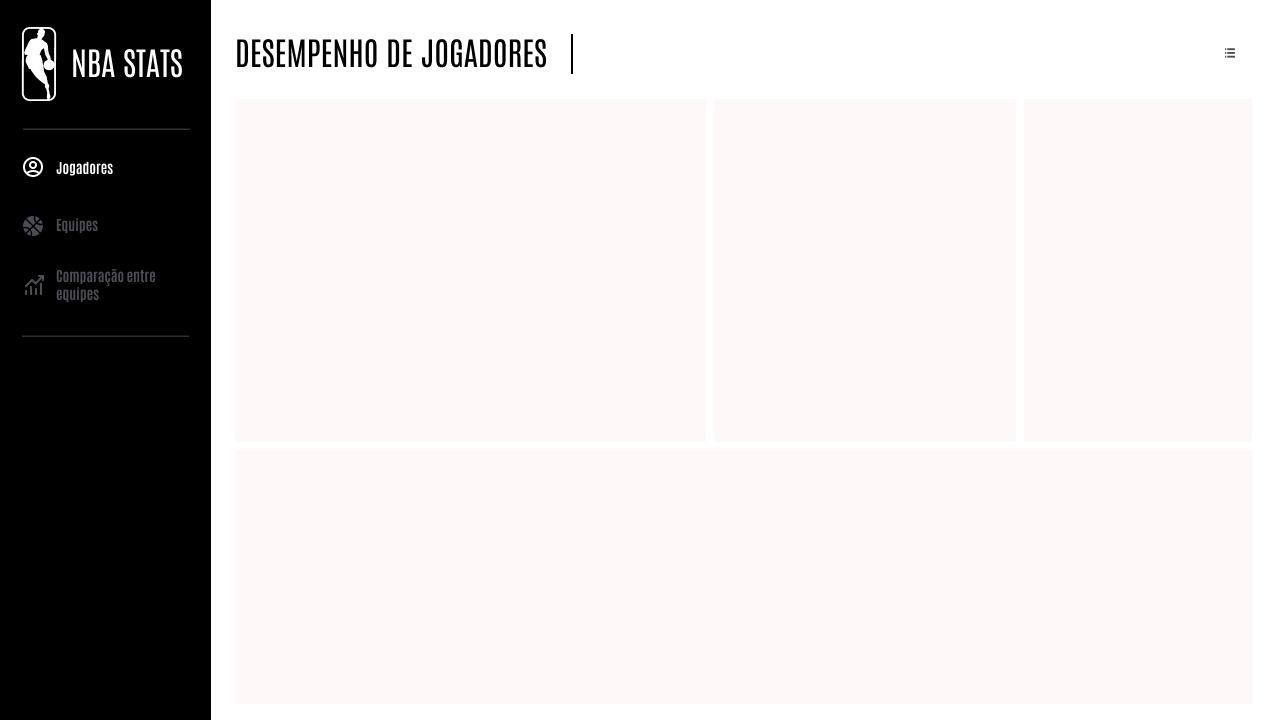

The page's visual inventory and layout, read from the dashboard file:
{"tool":"powerbi","page":{"name":"Página 1","canvas":[1280,720],"ordinal":0},"visuals":[{"type":"pivotTable","fields":{"Rows":["Página1.idplayer"],"Values":["Avg(Página1.min)","Avg(Página1.pts)","Avg(Página1.ast)","Avg(Página1.treb)","Avg(Página1.stl)","Avg(Página1.blk)"]},"box":[238.5,99.1,460.3,290.6],"z":0},{"type":"scatterChart","title":"Player Shot Eff","fields":{"Y":["Avg(Página1.p_fg3)"],"X":["Avg(Página1.fg3a)"],"Category":["Página1.idplayer"]},"box":[720,102,253.7,290.6],"z":1000},{"type":"lineChart","fields":{"Category":["Página1.iddate.Variation.Hierarquia de datas.Ano","Página1.iddate.Variation.Hierarquia de datas.Mês","Página1.iddate.Variation.Hierarquia de datas.Dia"],"Y":["Avg(Página1.pts)"],"Series":["Página1.idplayer"]},"box":[245.2,416.7,1000.6,275],"z":2000},{"type":"scatterChart","title":"Player Shot Eff","fields":{"Y":["Avg(Página1.p_fg3)"],"X":["Avg(Página1.fg3a)"],"Category":["Página1.idplayer"]},"box":[992.1,102,253.7,290.6],"z":3000},{"type":"slicer","fields":{"Values":["Página1.idplayer"]},"box":[591.2,27.5,135,43.8],"z":4000},{"type":"actionButton","box":[0,0,100,40],"z":5000}]}

Visuals, with their boxes on the page's 1280x720 design canvas (x1, y1, x2, y2). These are canvas units, not pixel positions in the 1280x720 screenshot, which may show the page scaled, cropped or inside an application window:
pivotTable - Página1.idplayer x Avg(Página1.min): <box>238,99,699,390</box>
"Player Shot Eff" scatterChart: <box>720,102,974,393</box>
lineChart - Página1.iddate.Variation.Hierarquia de datas.Ano x Página1.iddate.Variation.Hierarquia de datas.Mês: <box>245,417,1246,692</box>
"Player Shot Eff" scatterChart: <box>992,102,1246,393</box>
slicer - Página1.idplayer: <box>591,28,726,71</box>
actionButton: <box>0,0,100,40</box>
